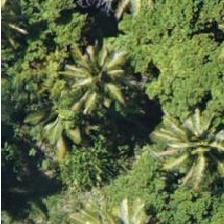coconut_tree: (56, 25, 146, 115), (149, 103, 223, 193)
